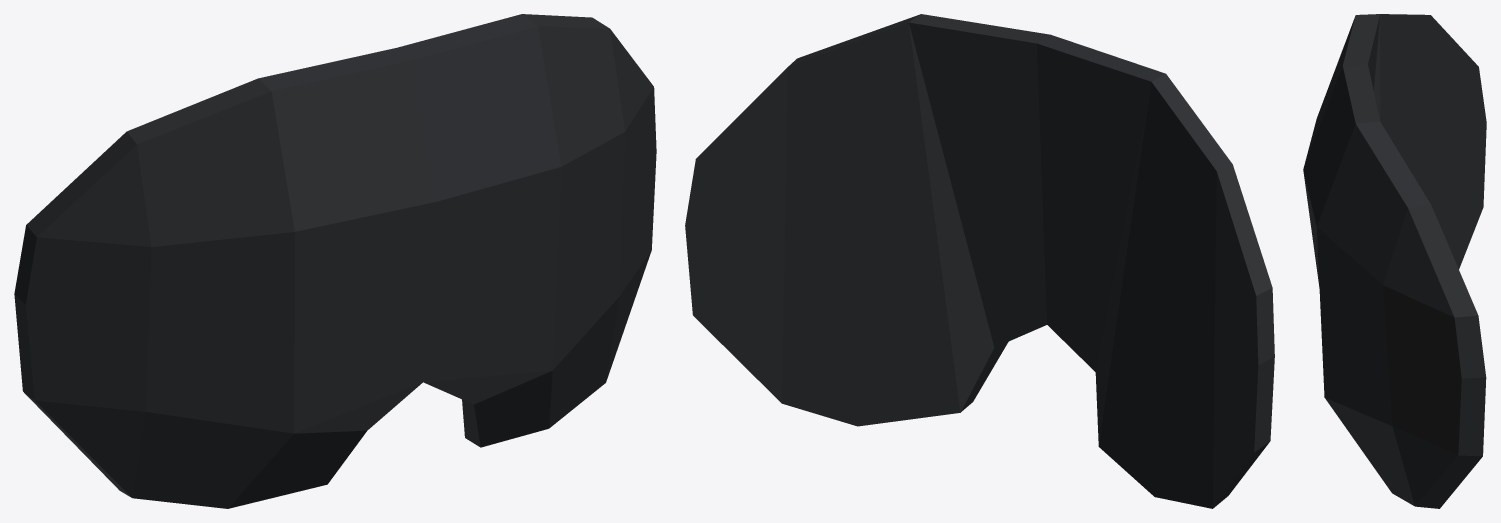
The model's file is SM_Char_Attach_Pilot_Helmet_01_Visor.fbx.
3 views of the same model, side by side, from view 1: azimuth 30°, elevation 25°; view 2: azimuth 150°, elevation 25°; view 3: azimuth 270°, elevation 25° (orthographic). The views are drawn at different scales.
Parts seen in each view (by area): view 1: SM_Char_Attach_Pilot_Helmet_01_Visor; view 2: SM_Char_Attach_Pilot_Helmet_01_Visor; view 3: SM_Char_Attach_Pilot_Helmet_01_Visor.
Part boxes in pixels (box(x1,y1,x2,y2)): SM_Char_Attach_Pilot_Helmet_01_Visor: box(14, 14, 656, 508); SM_Char_Attach_Pilot_Helmet_01_Visor: box(685, 14, 1274, 508); SM_Char_Attach_Pilot_Helmet_01_Visor: box(1303, 14, 1486, 508).
Size of the model in its own units: 25.96 by 17.11 by 7.83.
